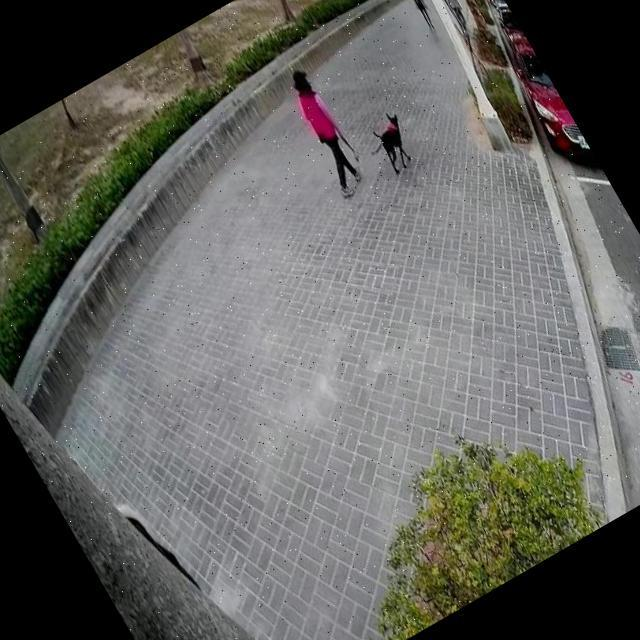person: (271, 58, 377, 204), (432, 0, 480, 41), (397, 0, 442, 34)
